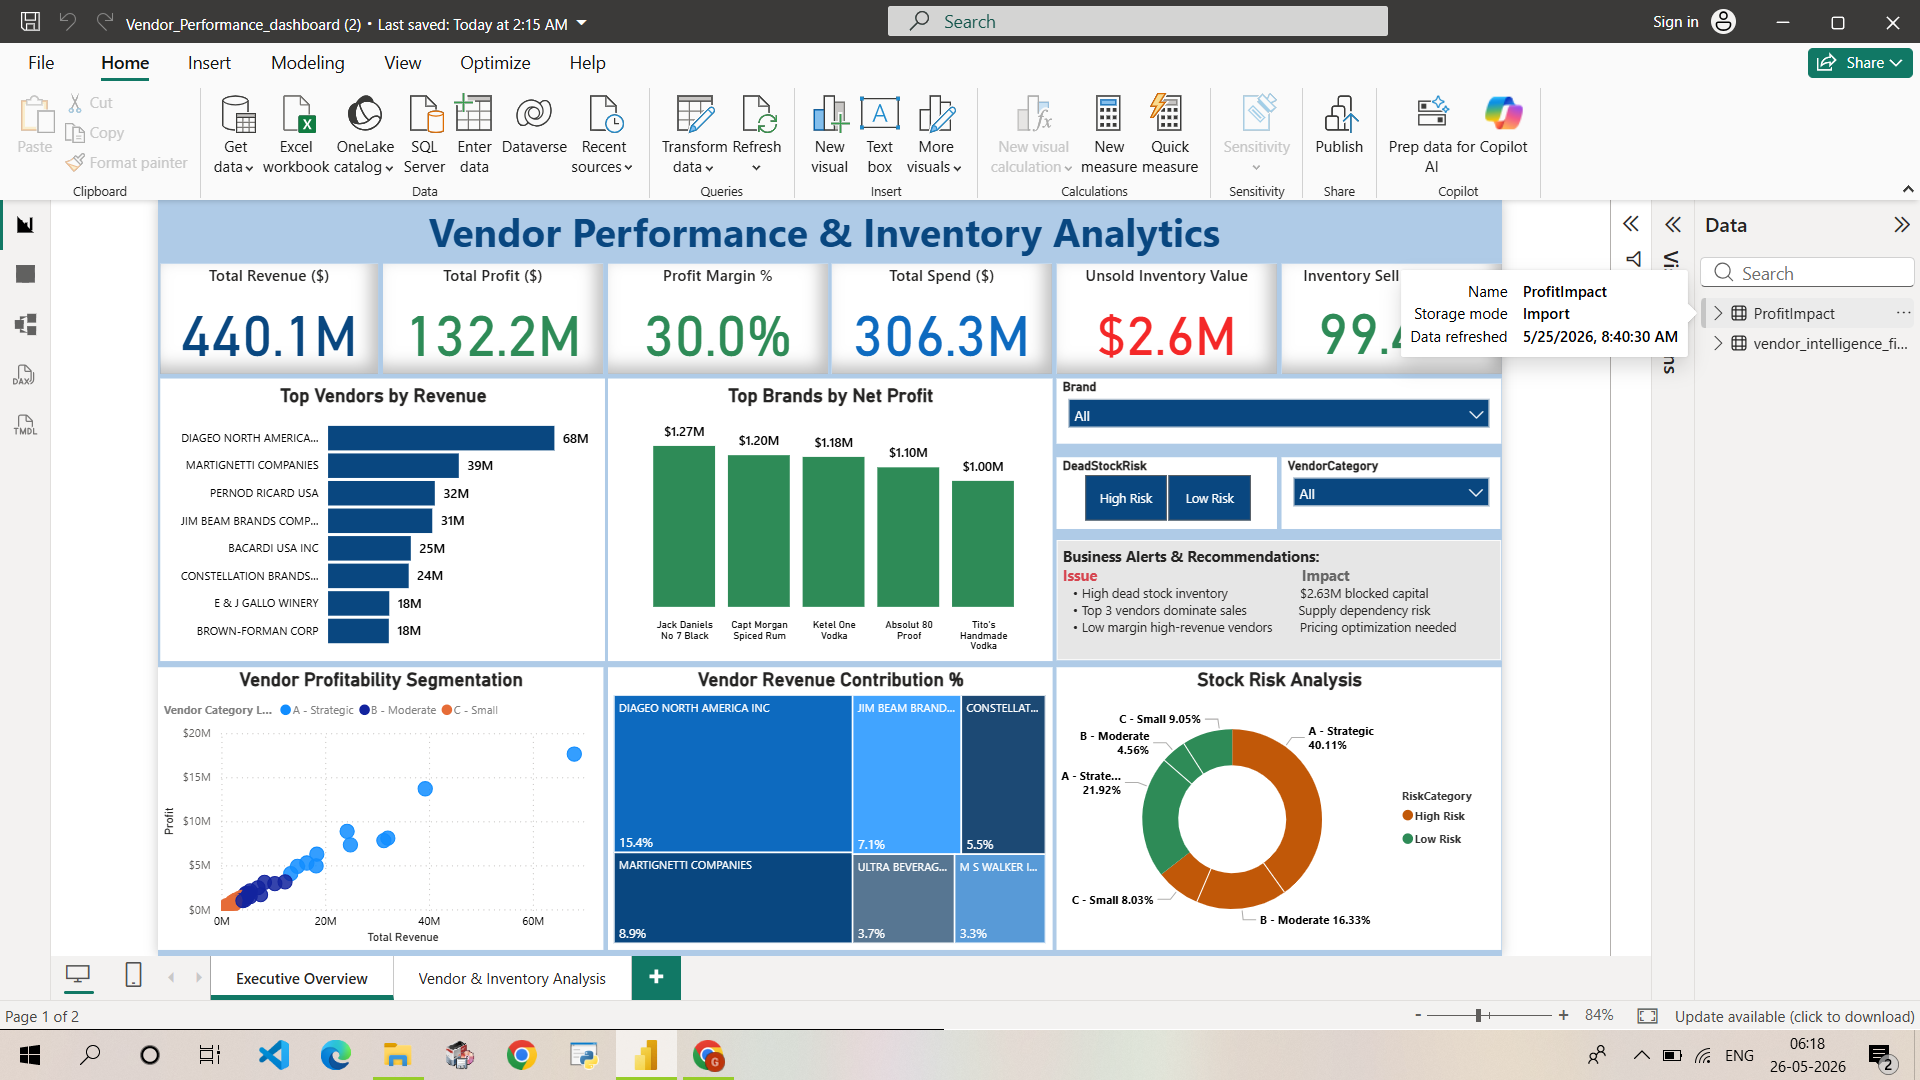

This screenshot's page, from the dashboard's own definition file:
{"tool":"powerbi","page":{"name":"Executive Overview","canvas":[1280,720],"ordinal":0},"visuals":[{"type":"card","title":"Total Revenue ($)","fields":{"Values":["Sum(vendor_intelligence_final.TotalRevenue)"]},"box":[2.4,60.7,207.1,104.8],"z":0},{"type":"card","title":"Total Profit ($)","fields":{"Values":["vendor_intelligence_final.Total Profit"]},"box":[214,60.7,209.5,104.8],"z":1000},{"type":"card","title":"Profit Margin %","fields":{"Values":["vendor_intelligence_final.Profit Margin %"]},"box":[428.1,60.7,209.5,104.8],"z":2000},{"type":"card","title":"Total Spend ($)","fields":{"Values":["Sum(vendor_intelligence_final.TotalSpend)"]},"box":[642.1,60.7,209.5,104.8],"z":3000},{"type":"card","title":"Unsold Inventory Value","fields":{"Values":["Sum(vendor_intelligence_final.UnsoldInventoryValue)"]},"box":[856.2,60.7,209.5,104.8],"z":4000},{"type":"card","title":"Inventory Sell Through %","fields":{"Values":["vendor_intelligence_final.Sell Through %"]},"box":[1070.2,60.7,209.5,104.8],"z":5000},{"type":"barChart","title":"Top Vendors by Revenue","fields":{"Category":["vendor_intelligence_final.VendorName"],"Y":["Sum(vendor_intelligence_final.TotalRevenue)"]},"box":[2,170,423,269],"z":6000},{"type":"textbox","box":[0,0,1279.8,73.8],"z":7000},{"type":"columnChart","title":"Top Brands by Net Profit","fields":{"Category":["vendor_intelligence_final.Description"],"Y":["Sum(vendor_intelligence_final.NetProfit)"]},"box":[428.6,170,423,269],"z":8000},{"type":"scatterChart","title":"Vendor Profitability Segmentation","fields":{"X":["Sum(vendor_intelligence_final.TotalRevenue)"],"Y":["Sum(vendor_intelligence_final.NetProfit)"],"Size":["vendor_intelligence_final.Sell Through %"],"Category":["vendor_intelligence_final.VendorName"],"Series":["vendor_intelligence_final.Vendor Category Label"]},"box":[0,445,423.8,269],"z":9000},{"type":"treemap","title":"Vendor Revenue Contribution %","fields":{"Group":["vendor_intelligence_final.VendorName"],"Values":["vendor_intelligence_final.Vendor Contribution %"]},"box":[428.6,445,423,269],"z":10000},{"type":"slicer","title":"VendorCategory","fields":{"Values":["vendor_intelligence_final.Vendor Category Label"]},"box":[1070.2,245,208.3,67.9],"z":11000},{"type":"slicer","title":"Brand","fields":{"Values":["vendor_intelligence_final.Description"]},"box":[856,170,423,61.9],"z":12000},{"type":"slicer","title":"DeadStockRisk","fields":{"Values":["vendor_intelligence_final.RiskCategory"]},"box":[856,245,209.5,67.9],"z":13000},{"type":"textbox","box":[856,324,423,114.3],"z":14000},{"type":"donutChart","title":"Stock Risk Analysis","fields":{"Category":["vendor_intelligence_final.RiskCategory"],"Y":["vendor_intelligence_final.Total Unsold Inventory"],"Series":["vendor_intelligence_final.Vendor Category Label"]},"box":[856,445,423,269],"z":16000}]}

Visuals, with their boxes on the page's 1280x720 design canvas (x1, y1, x2, y2). These are canvas units, not pixel positions in the 1920x1080 screenshot, which may show the page scaled, cropped or inside an application window:
"Total Revenue ($)" card: {"left": 2, "top": 61, "right": 210, "bottom": 166}
"Total Profit ($)" card: {"left": 214, "top": 61, "right": 424, "bottom": 166}
"Profit Margin %" card: {"left": 428, "top": 61, "right": 638, "bottom": 166}
"Total Spend ($)" card: {"left": 642, "top": 61, "right": 852, "bottom": 166}
"Unsold Inventory Value" card: {"left": 856, "top": 61, "right": 1066, "bottom": 166}
"Inventory Sell Through %" card: {"left": 1070, "top": 61, "right": 1280, "bottom": 166}
"Top Vendors by Revenue" barChart: {"left": 2, "top": 170, "right": 425, "bottom": 439}
textbox: {"left": 0, "top": 0, "right": 1280, "bottom": 74}
"Top Brands by Net Profit" columnChart: {"left": 429, "top": 170, "right": 852, "bottom": 439}
"Vendor Profitability Segmentation" scatterChart: {"left": 0, "top": 445, "right": 424, "bottom": 714}
"Vendor Revenue Contribution %" treemap: {"left": 429, "top": 445, "right": 852, "bottom": 714}
"VendorCategory" slicer: {"left": 1070, "top": 245, "right": 1278, "bottom": 313}
"Brand" slicer: {"left": 856, "top": 170, "right": 1279, "bottom": 232}
"DeadStockRisk" slicer: {"left": 856, "top": 245, "right": 1066, "bottom": 313}
textbox: {"left": 856, "top": 324, "right": 1279, "bottom": 438}
"Stock Risk Analysis" donutChart: {"left": 856, "top": 445, "right": 1279, "bottom": 714}
